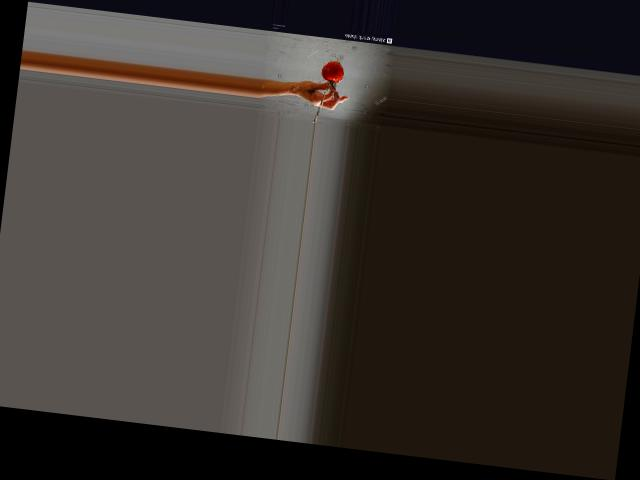tomato: (319, 59, 343, 82)
